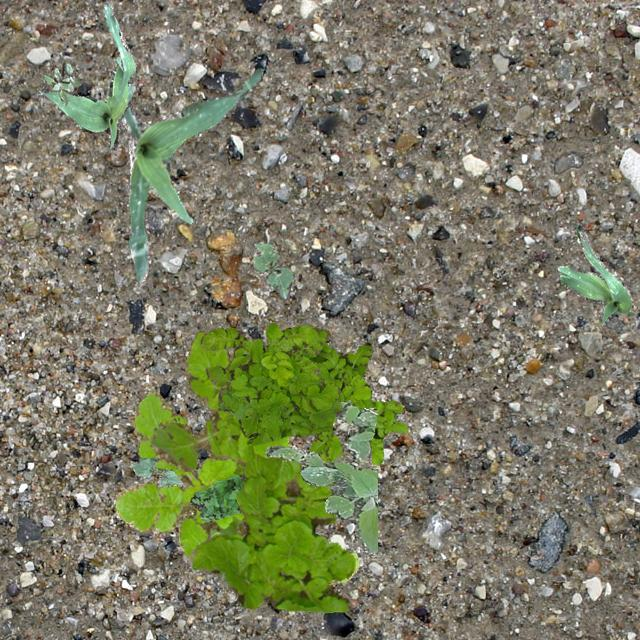crop: (120, 68, 262, 282), (38, 2, 134, 148), (554, 224, 634, 324), (252, 240, 292, 300), (130, 456, 182, 486)
weed: (150, 329, 353, 612), (114, 389, 360, 582), (264, 398, 376, 558), (200, 322, 340, 444), (298, 340, 406, 464), (190, 474, 244, 520), (42, 62, 80, 104)
